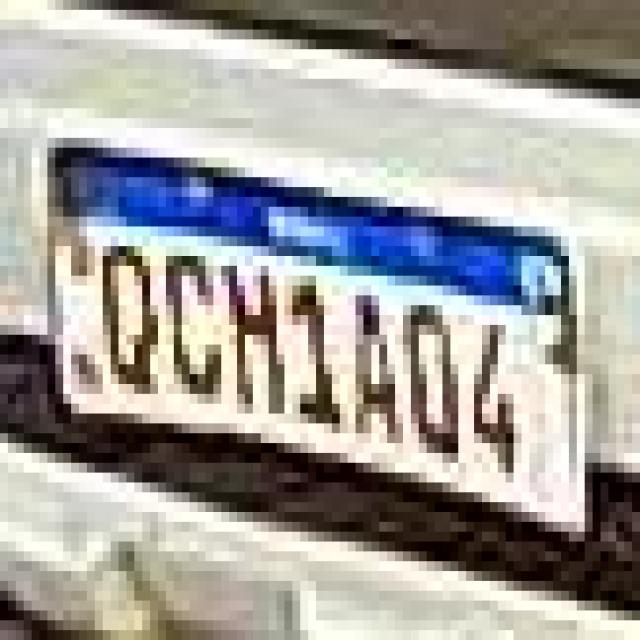0: (402, 295, 461, 463)
1: (290, 271, 342, 439)
4: (466, 306, 526, 482)
A: (346, 282, 401, 451)
C: (161, 241, 224, 401)
H: (227, 254, 284, 419)
Q: (98, 236, 159, 397)
